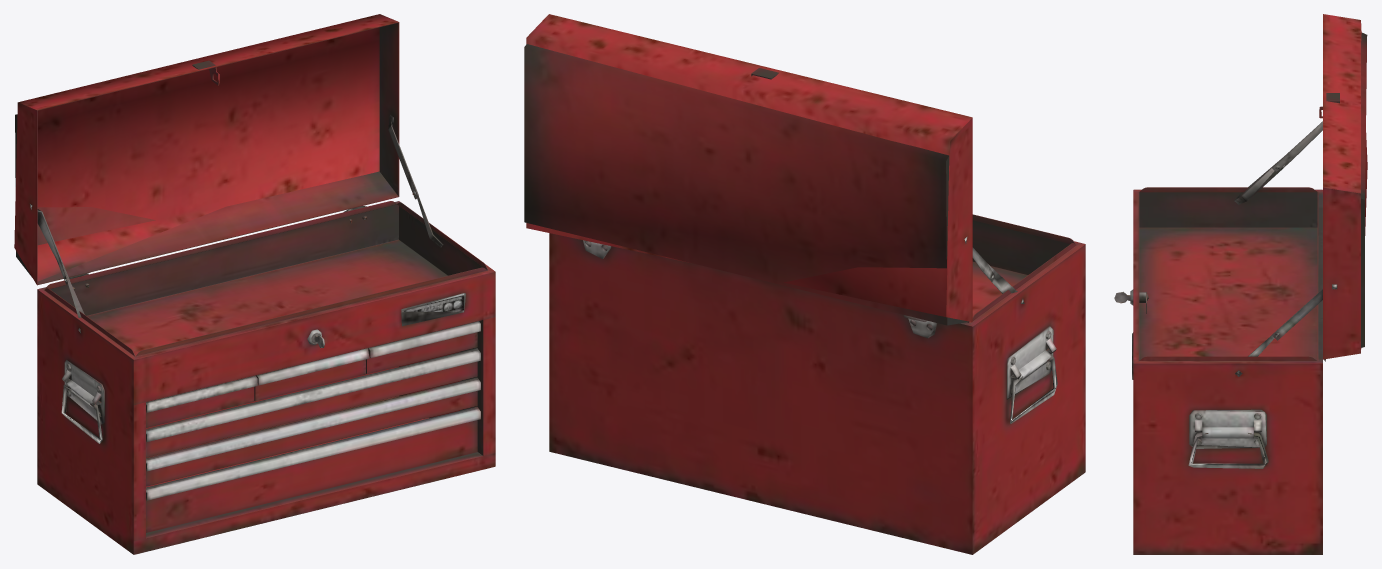
Rendered from p_toolchest.glb.
The picture shows the model from 3 angles, left to right: view 1: azimuth 30°, elevation 25°; view 2: azimuth 150°, elevation 25°; view 3: azimuth 270°, elevation 25°; orthographic projection. The views are drawn at different scales.
Visible parts, largest first — view 1: metal_tool_chest_chest, metal_tool_chest_lid, metal_tool_chest_hinge_lid; view 2: metal_tool_chest_chest, metal_tool_chest_lid; view 3: metal_tool_chest_chest, metal_tool_chest_lid, metal_tool_chest_hinge_lid, metal_tool_chest_handle_right, metal_tool_chest_hinge_chest.
Boxes of the visible parts, bbox=[...] form: metal_tool_chest_chest: bbox=[37, 201, 495, 554]; metal_tool_chest_lid: bbox=[14, 14, 399, 285]; metal_tool_chest_hinge_lid: bbox=[29, 114, 418, 284]; metal_tool_chest_chest: bbox=[549, 214, 1085, 554]; metal_tool_chest_lid: bbox=[524, 14, 972, 325]; metal_tool_chest_chest: bbox=[1132, 187, 1325, 554]; metal_tool_chest_lid: bbox=[1319, 14, 1367, 359]; metal_tool_chest_hinge_lid: bbox=[1272, 121, 1337, 340]; metal_tool_chest_handle_right: bbox=[1188, 432, 1268, 468]; metal_tool_chest_hinge_chest: bbox=[1234, 160, 1284, 376].
Size of the model in its own units: 0.6841 by 0.6518 by 0.4072.
Materials: 1 (1 with a texture image).
